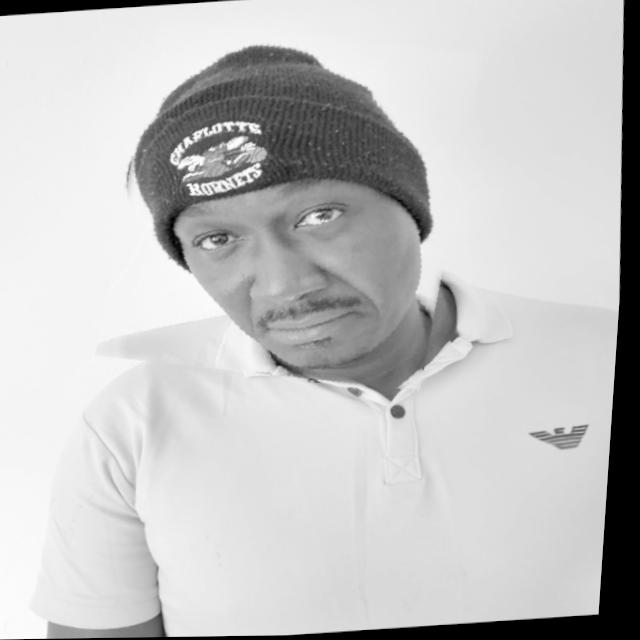sad: (94, 11, 490, 400)
